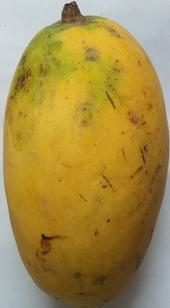Ripe: (1, 0, 170, 308)
